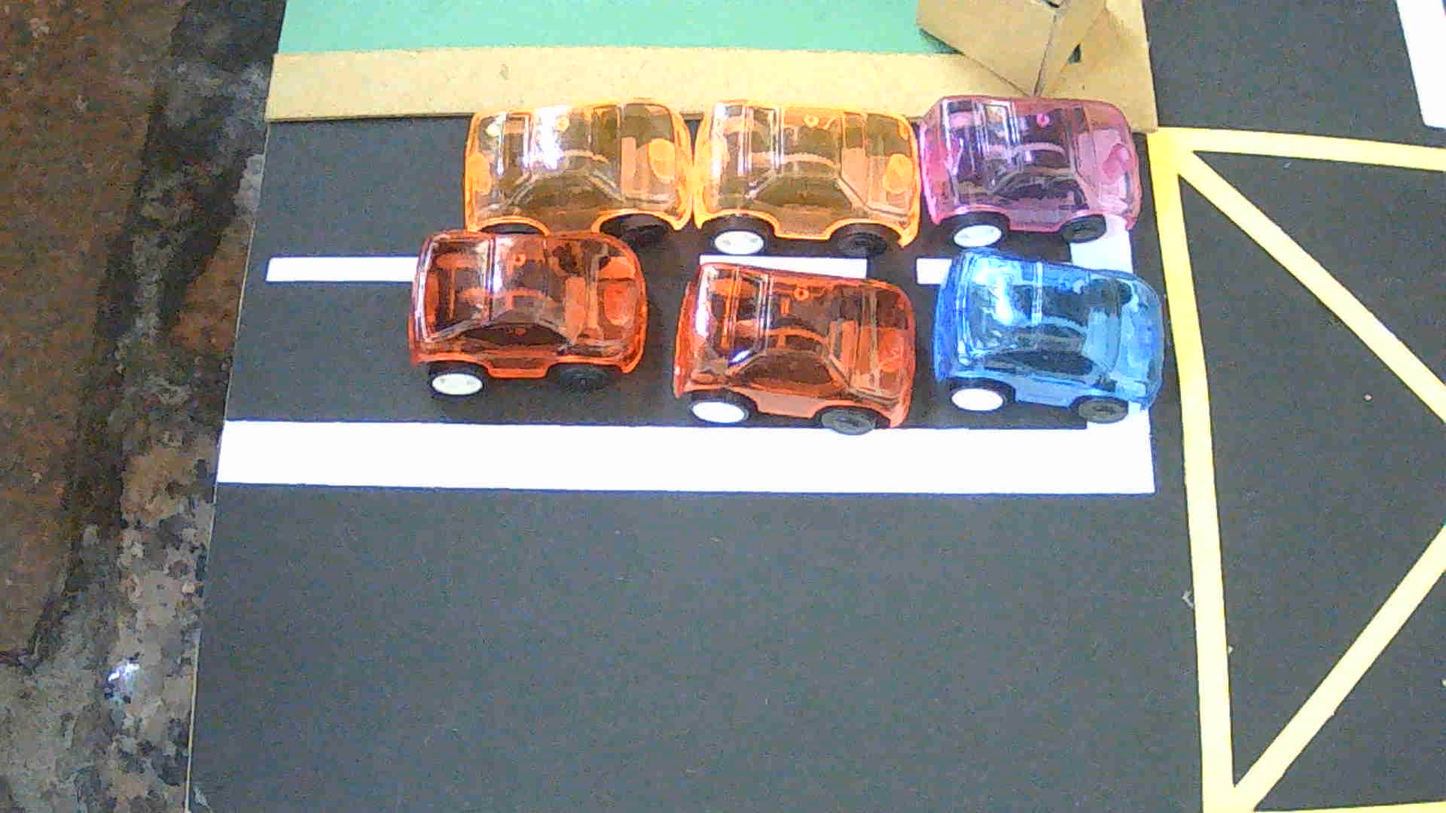Mobil biru: (932, 249, 1164, 422)
Mobil merah: (672, 262, 915, 434), (407, 231, 648, 396)
Mobil orange: (691, 100, 920, 257), (462, 101, 691, 244)
Mobil ungu: (919, 96, 1139, 246)
